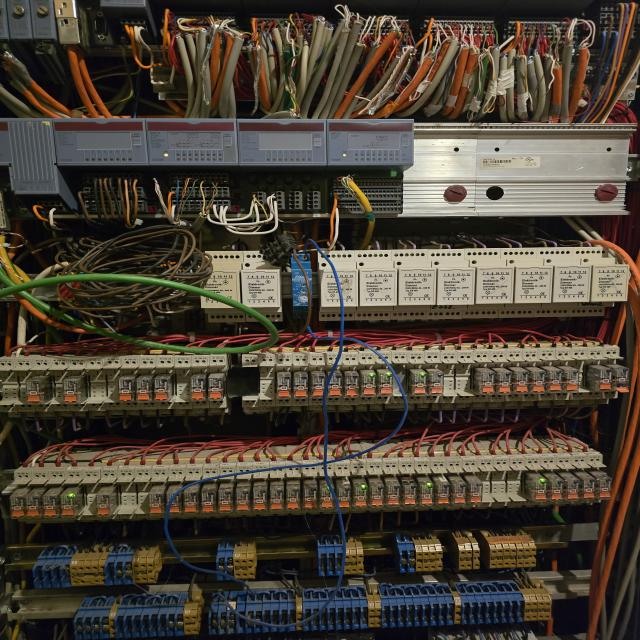Dimmer: (569, 247, 630, 317), (533, 247, 592, 317), (499, 248, 553, 318), (461, 249, 514, 318), (425, 249, 476, 320), (390, 249, 438, 321), (354, 249, 398, 321), (199, 250, 242, 322), (317, 250, 358, 322), (244, 251, 282, 322), (289, 252, 313, 322)
Relais: (588, 365, 612, 392), (526, 474, 546, 504), (473, 368, 494, 395), (610, 364, 630, 392), (408, 368, 427, 396), (546, 473, 563, 504), (511, 367, 529, 395), (376, 369, 394, 396), (562, 366, 580, 393), (563, 474, 579, 504), (579, 474, 595, 504), (494, 367, 511, 395), (428, 367, 444, 396), (596, 474, 612, 503), (25, 381, 45, 404), (42, 494, 61, 518), (60, 494, 79, 518), (276, 372, 292, 399), (292, 372, 308, 399), (529, 367, 545, 394), (546, 366, 562, 393), (63, 381, 81, 404), (153, 378, 171, 401), (96, 494, 114, 517), (135, 378, 152, 402), (26, 494, 42, 519), (270, 488, 286, 513), (402, 485, 418, 510), (164, 492, 182, 514), (328, 370, 342, 398), (344, 370, 358, 398), (361, 370, 375, 398), (319, 487, 334, 513), (369, 486, 384, 512), (118, 378, 134, 402), (190, 378, 206, 402), (434, 484, 450, 508), (303, 488, 318, 513), (336, 487, 351, 512), (207, 378, 224, 400), (148, 493, 165, 515), (386, 486, 400, 512), (10, 494, 25, 518), (286, 488, 301, 512), (419, 485, 434, 509), (182, 492, 198, 514), (468, 483, 482, 508), (200, 491, 215, 514), (253, 489, 267, 513), (235, 490, 250, 512), (313, 372, 325, 399), (218, 491, 232, 514), (353, 487, 366, 511), (452, 484, 465, 508)
SPS-System -Steuerungskomponente-: (52, 117, 147, 168), (146, 116, 238, 166), (238, 118, 327, 166), (329, 118, 414, 164)
Schaltkasten: (2, 2, 640, 640)
Verbinder: (208, 578, 551, 635), (73, 591, 202, 639), (32, 543, 162, 589), (479, 527, 537, 569), (394, 532, 443, 573), (317, 535, 364, 576), (215, 540, 256, 580), (450, 529, 479, 570)
